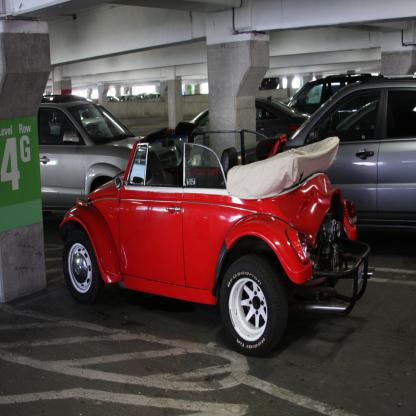Car: (56, 119, 371, 358), (232, 73, 416, 235), (39, 91, 184, 216), (163, 92, 320, 165), (284, 74, 388, 115)
